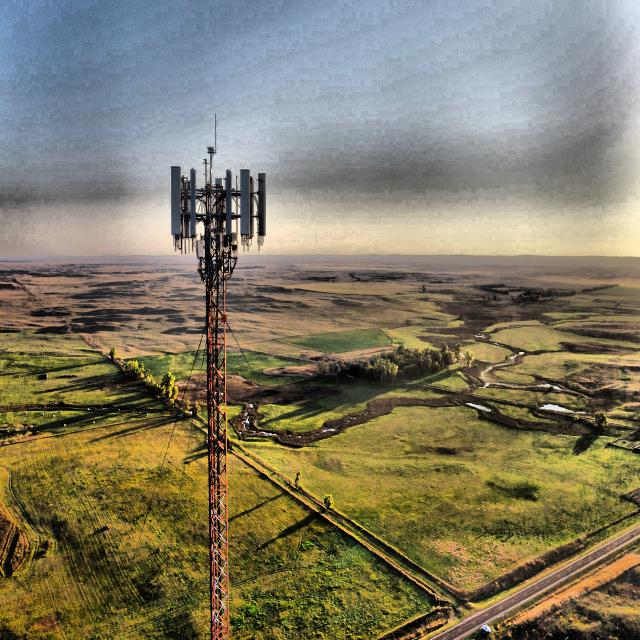antenna: (171, 166, 181, 238), (240, 169, 250, 237), (257, 173, 265, 244), (188, 168, 195, 237), (215, 178, 223, 232), (225, 169, 231, 235), (249, 176, 253, 238)
